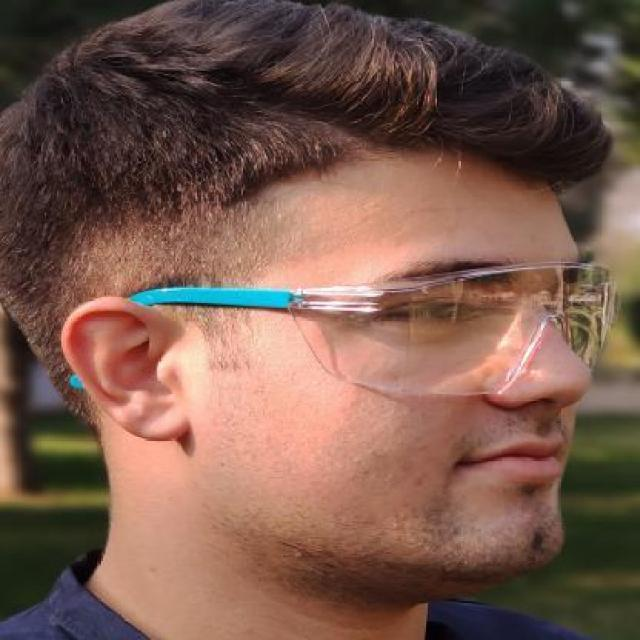Goggles: (51, 246, 628, 395)
